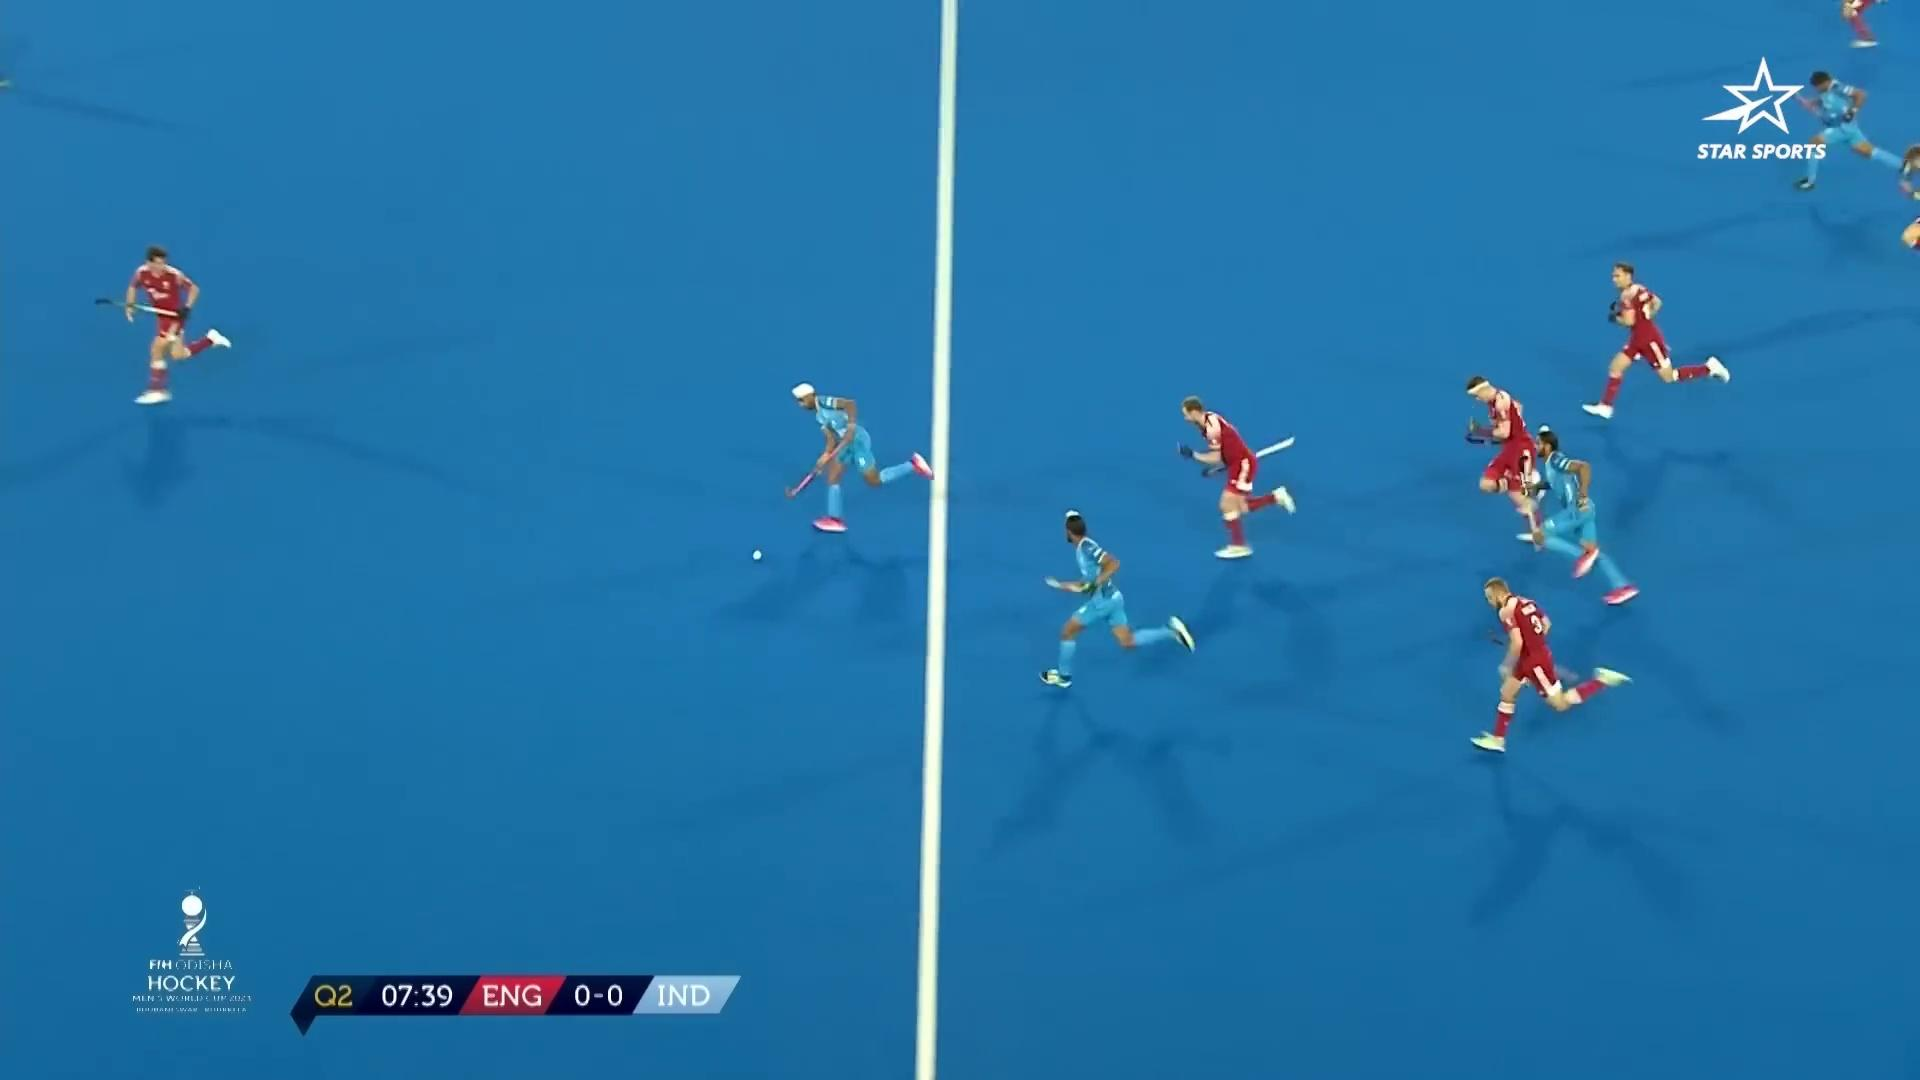ball: (731, 539, 777, 566)
